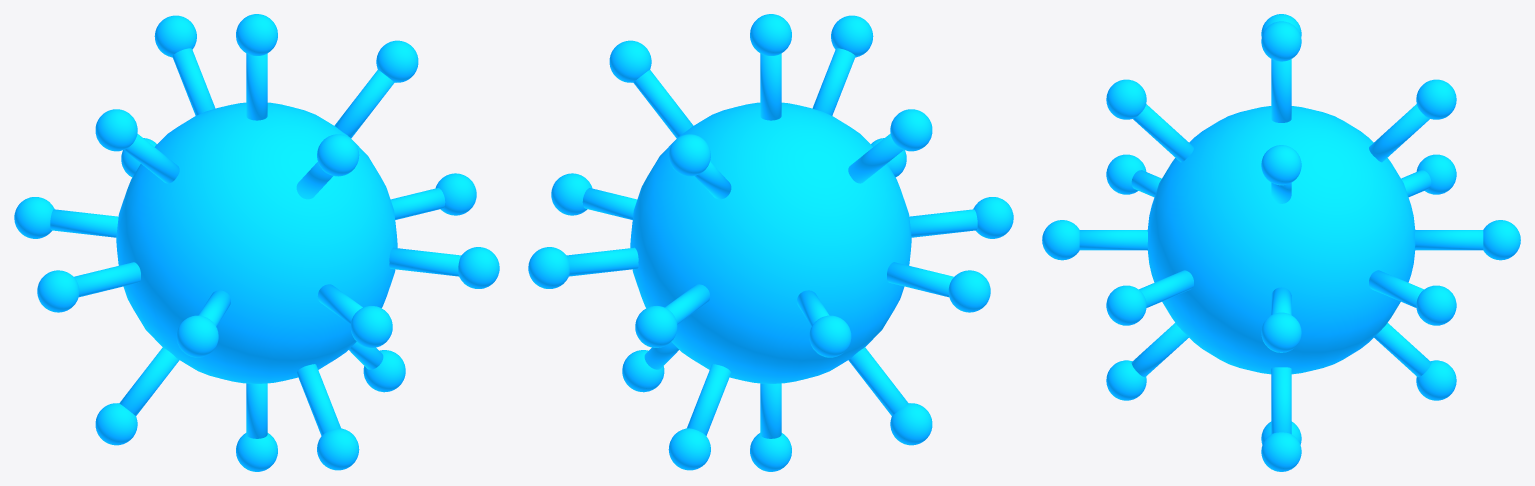
The model's file is virus3.fbx.
3 renders of one model, left to right at view 1: azimuth 30°, elevation 25°; view 2: azimuth 150°, elevation 25°; view 3: azimuth 270°, elevation 25°, orthographic. The views are drawn at different scales.
Visible parts, largest first — view 1: Virus3; view 2: Virus3; view 3: Virus3.
Boxes of the visible parts, bbox=[...] form: Virus3: bbox=[14, 14, 499, 471]; Virus3: bbox=[528, 14, 1013, 471]; Virus3: bbox=[1042, 14, 1520, 471].
Size of the model in its own units: 355 by 355 by 355.
